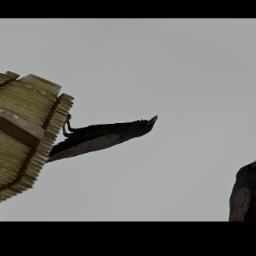Crow: (20, 90, 165, 184)
